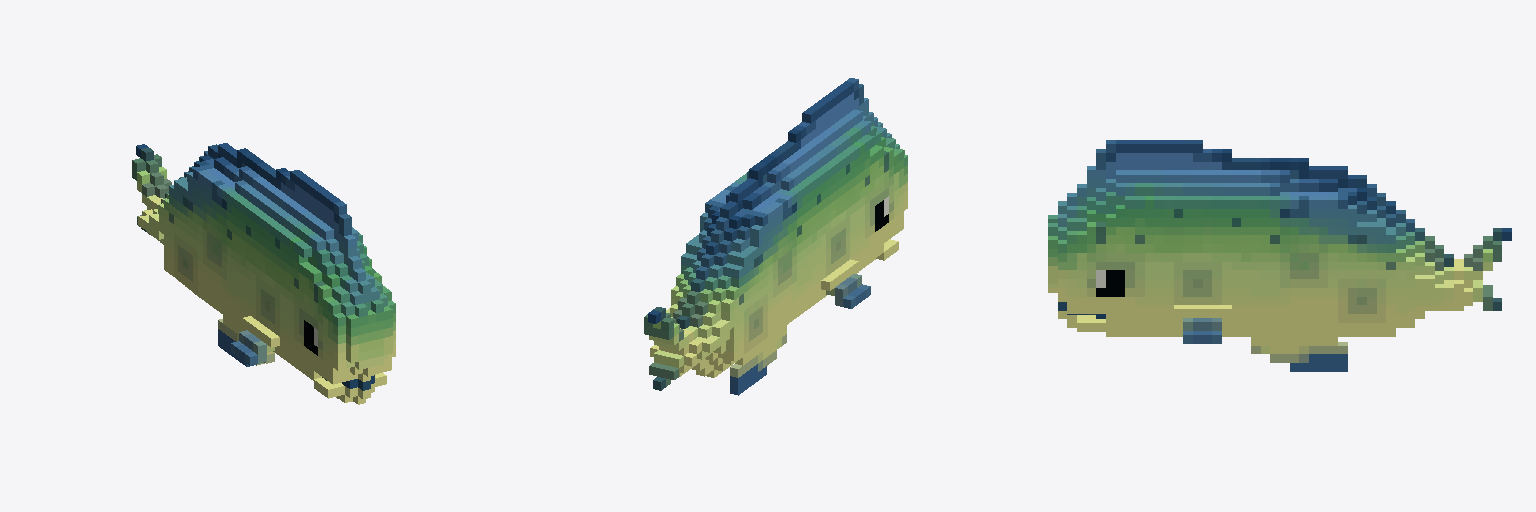
The picture shows the model from 3 angles: view 1: azimuth 30°, elevation 25°; view 2: azimuth 150°, elevation 25°; view 3: azimuth 270°, elevation 25°; orthographic projection.
Visible parts, largest first — view 1: object 1; view 2: object 1; view 3: object 1.
Part boxes in pixels (x1,y1,x2,y2): object 1: (132, 143, 395, 404); object 1: (644, 78, 907, 395); object 1: (1048, 140, 1511, 371).
Bounding box in the file's own units: 1.3 × 2.6 × 4.8.
1 materials, 1 textured.